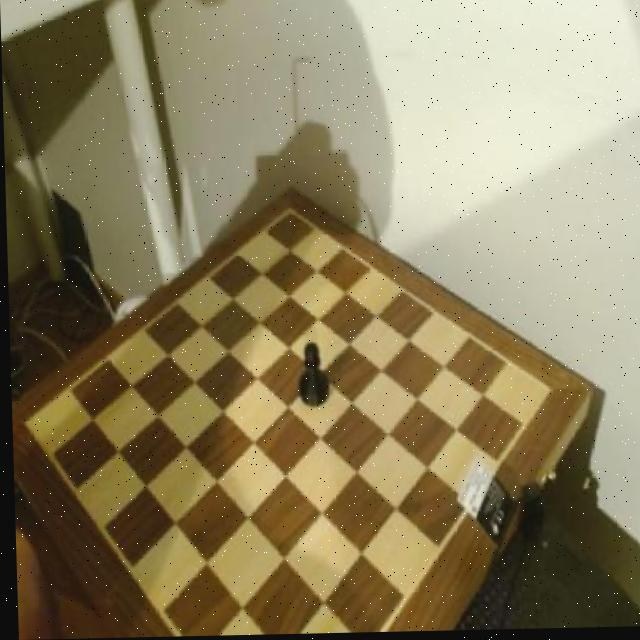black-knight: (294, 336, 332, 415)
